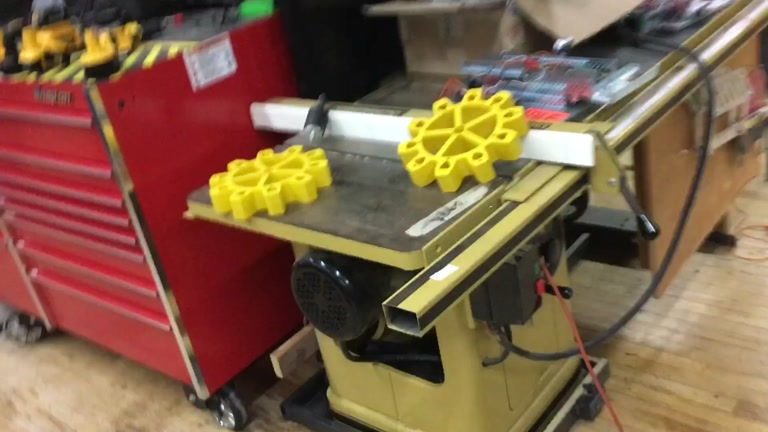gear: (396, 87, 529, 195), (207, 144, 331, 223)
